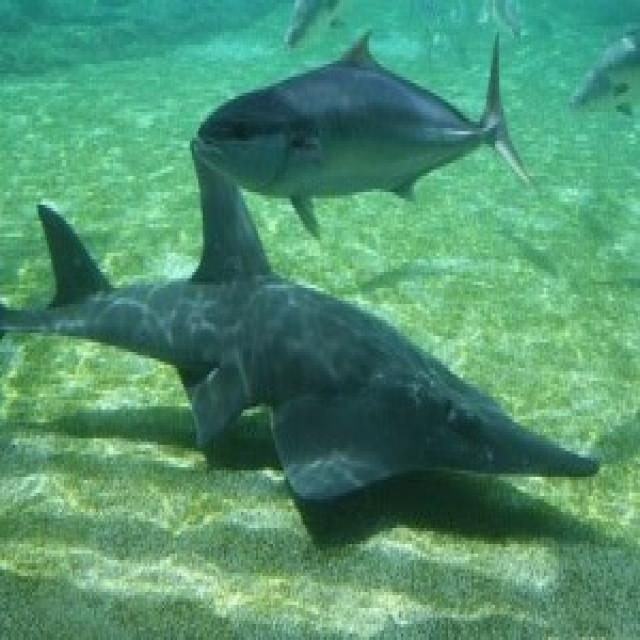Shark: (0, 143, 604, 522), (198, 29, 536, 242), (573, 26, 639, 134), (270, 0, 344, 46)
